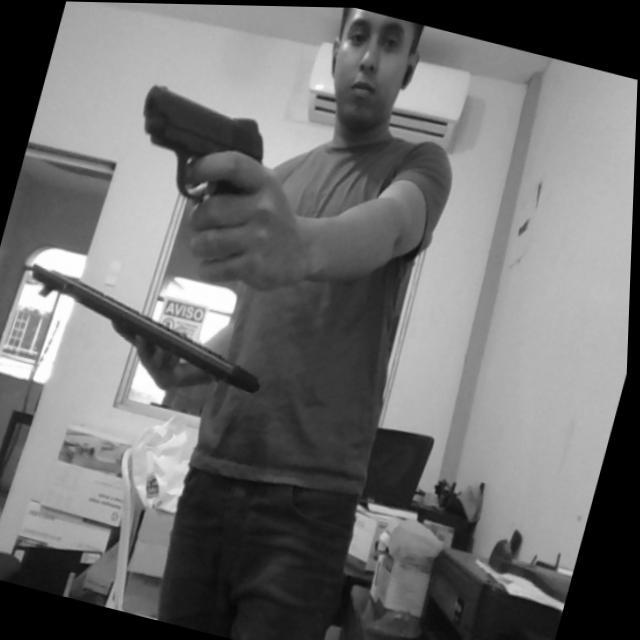weapon: (122, 79, 282, 217)
